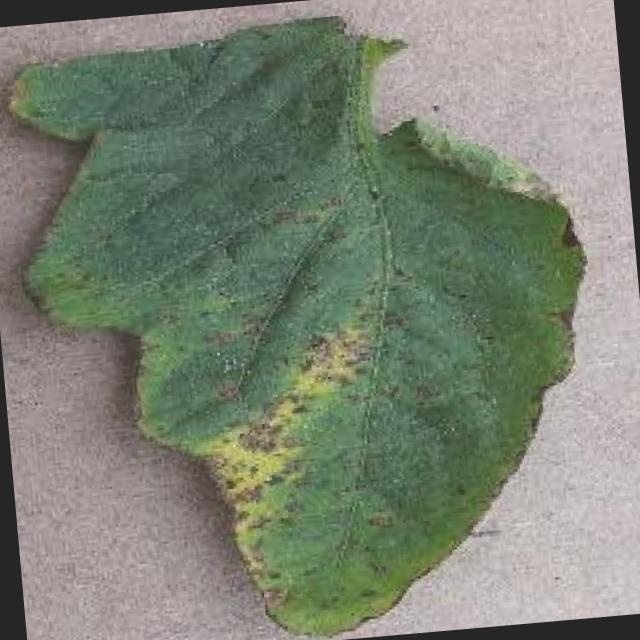bacterial spot: (0, 10, 587, 640)
